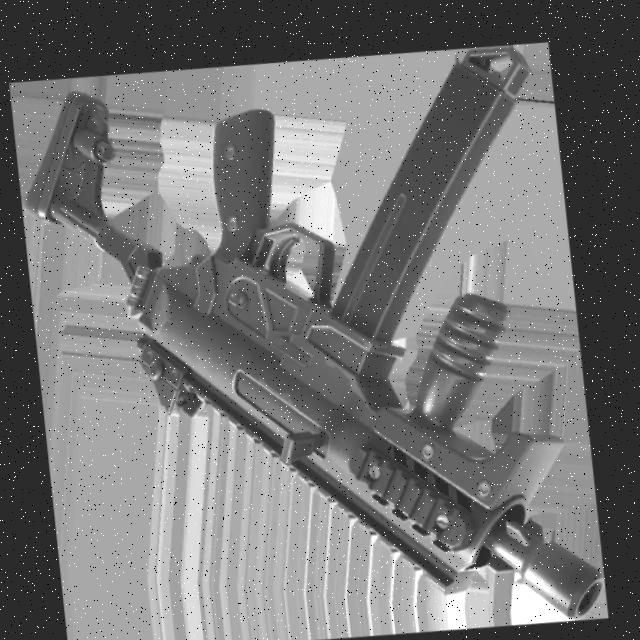firearm: (6, 21, 614, 640)
